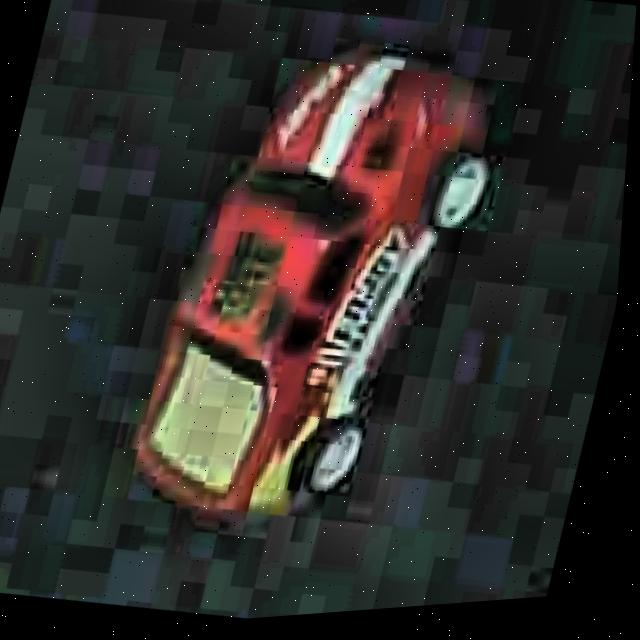car: (108, 12, 527, 562)
